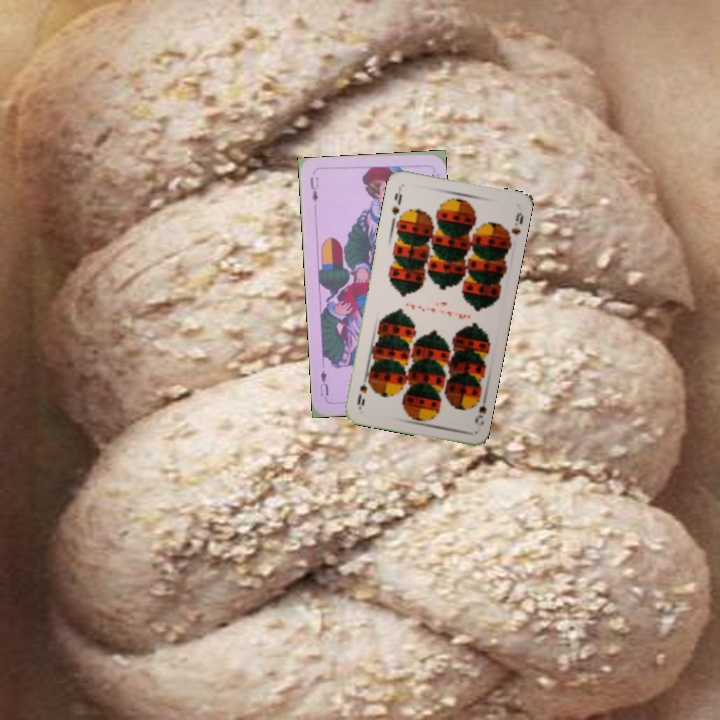EU: (306, 173, 321, 204)
S9: (469, 390, 490, 426), (388, 189, 405, 217)
